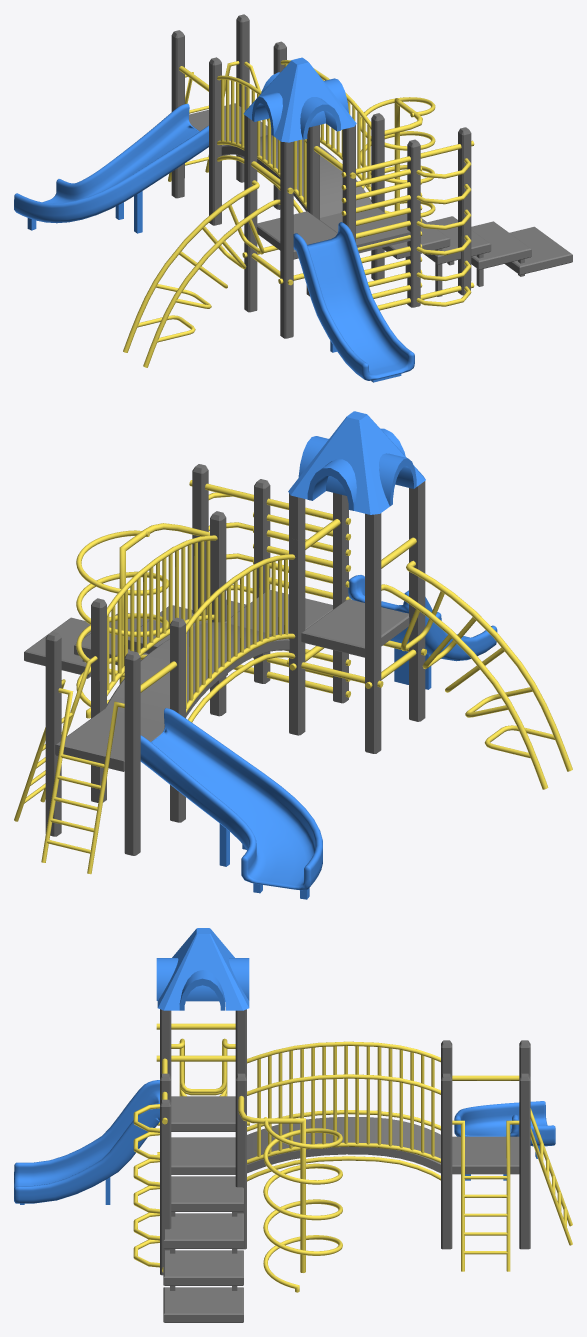
3 views of the same model, one above another, from view 1: azimuth 30°, elevation 25°; view 2: azimuth 150°, elevation 25°; view 3: azimuth 270°, elevation 25° (orthographic). The views are drawn at different scales.
Visible parts, largest first — view 1: Loft61, Loft56, Rectangle03, Tube04, Line01, Cylinder19, 1, 04, 08, Box10, Box09, Cylinder20 (+14 smaller); view 2: Loft56, Rectangle03, Line01, Tube04, Cylinder19, Cylinder20, 07, Box01, 03, 06, Loft63, Loft61 (+14 smaller); view 3: Line01, Cylinder20, Loft61, Tube04, Loft63, Cylinder19, Box09, Box10, Box08, Loft56, Box07, Box01 (+10 smaller).
Part boxes in pixels (bbox=[...]): Loft61: bbox=[293, 222, 414, 380]; Loft56: bbox=[14, 103, 208, 223]; Rectangle03: bbox=[244, 115, 355, 338]; Tube04: bbox=[243, 57, 356, 142]; Line01: bbox=[189, 103, 410, 253]; Cylinder19: bbox=[217, 75, 306, 212]; 1: bbox=[407, 139, 420, 307]; 04: bbox=[209, 57, 221, 225]; 08: bbox=[458, 127, 471, 295]; Box10: bbox=[504, 226, 572, 275]; Box09: bbox=[471, 221, 531, 269]; Cylinder20: bbox=[280, 60, 371, 191]; Loft56: bbox=[140, 708, 322, 890]; Rectangle03: bbox=[289, 481, 425, 753]; Line01: bbox=[55, 589, 332, 771]; Tube04: bbox=[288, 411, 425, 514]; Cylinder19: bbox=[186, 554, 295, 722]; Cylinder20: bbox=[107, 535, 217, 695]; 07: bbox=[124, 651, 140, 855]; Box01: bbox=[301, 599, 409, 657]; 03: bbox=[289, 537, 305, 735]; 06: bbox=[45, 631, 61, 836]; Loft63: bbox=[76, 530, 168, 718]; Loft61: bbox=[348, 575, 497, 661]; Line01: bbox=[171, 1116, 519, 1174]; Cylinder20: bbox=[247, 1074, 440, 1181]; Loft61: bbox=[14, 1080, 159, 1203]; Tube04: bbox=[156, 928, 249, 1010]; Loft63: bbox=[263, 1117, 342, 1292]; Cylinder19: bbox=[247, 1041, 440, 1131]; Box09: bbox=[163, 1250, 243, 1285]; Box10: bbox=[163, 1287, 243, 1322]; Box08: bbox=[163, 1213, 243, 1248]; Loft56: bbox=[454, 1101, 555, 1146]; Box07: bbox=[171, 1176, 243, 1211]; Box01: bbox=[171, 1096, 235, 1131].
Bounding box in the file's own units: 5814 × 3422 × 6371.
